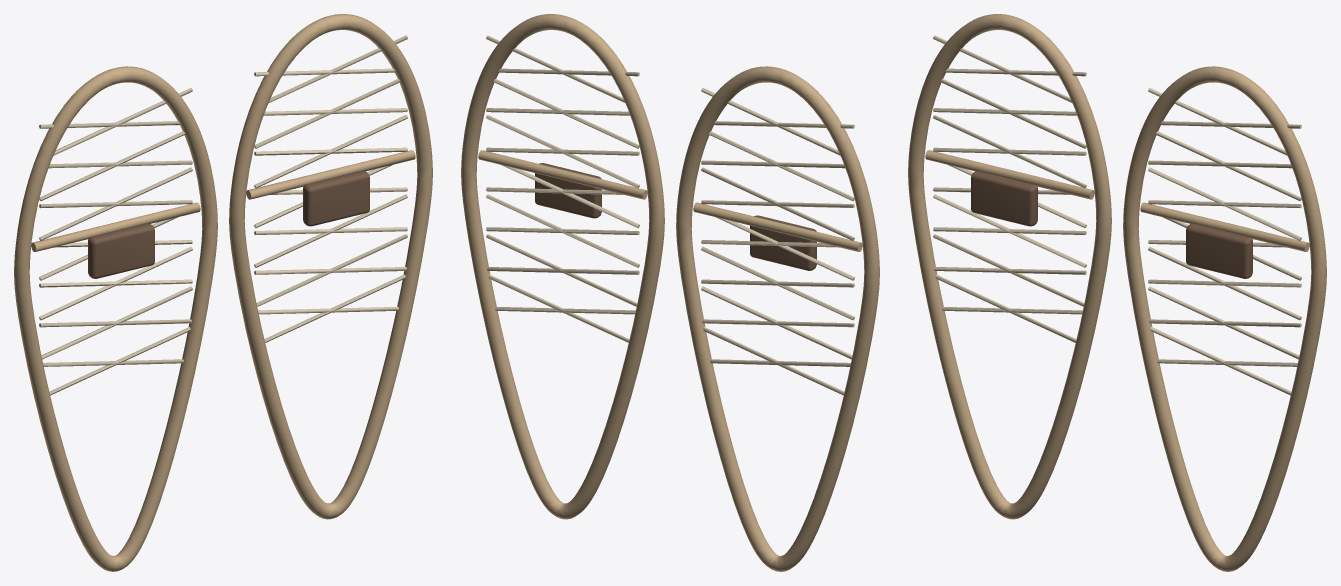
Rendered from lp_snowshoes.glb.
3 views of the same model, side by side, from view 1: azimuth 30°, elevation 25°; view 2: azimuth 150°, elevation 25°; view 3: azimuth 330°, elevation 25° (orthographic).
Parts seen in each view (by area): view 1: lp_snowshoes; view 2: lp_snowshoes; view 3: lp_snowshoes.
Part boxes in pixels (<box>): lp_snowshoes: <box>14,14,432,571</box>; lp_snowshoes: <box>461,14,879,571</box>; lp_snowshoes: <box>908,14,1326,571</box>.
Size of the model in its own units: 0.6584 by 0.7579 by 0.036.
